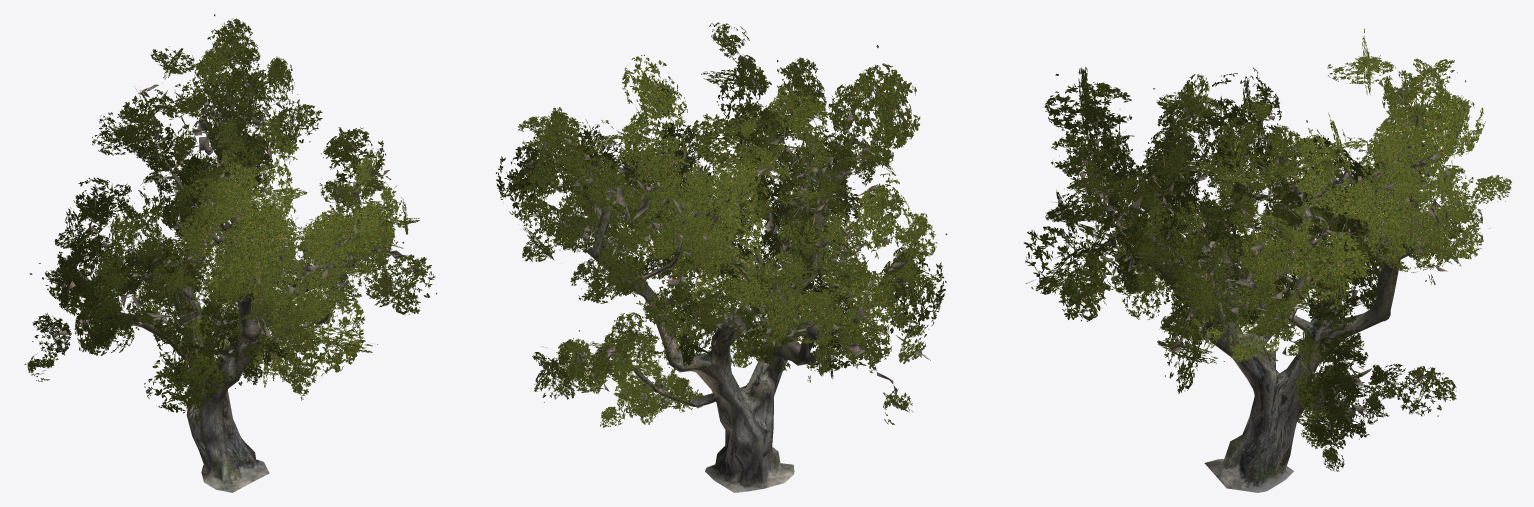
File: island_tree_01_nah.gltf
3 views of the same model, side by side, from view 1: azimuth 30°, elevation 25°; view 2: azimuth 150°, elevation 25°; view 3: azimuth 270°, elevation 25° (orthographic). The views are drawn at different scales.
Visible parts, largest first — view 1: baum; view 2: baum; view 3: baum.
Part boxes in pixels (<box>): baum: <box>24,14,437,492</box>; baum: <box>495,22,947,492</box>; baum: <box>1023,28,1511,492</box>.
Size of the model in its own units: 5.28 by 5.3 by 5.16.
Materials: 3 (3 with a texture image).
